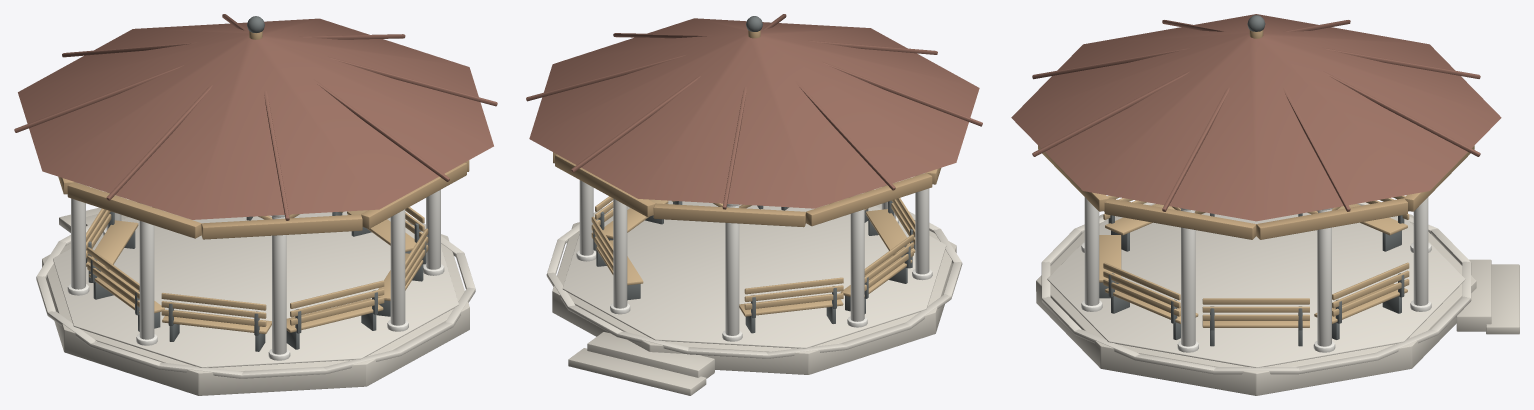
File: th16_pavillon.glb
The picture shows the model from 3 angles, left to right: view 1: azimuth 30°, elevation 25°; view 2: azimuth 150°, elevation 25°; view 3: azimuth 270°, elevation 25°; orthographic projection. The views are drawn at different scales.
Visible parts, largest first — view 1: Cone, Cylinder.001, Cylinder, Cube.023, Cube.022, Cylinder.014, Cylinder.017, Cylinder.020, Cube.024, Cylinder.011, Cylinder.023, Cube.066 (+23 smaller); view 2: Cone, Cylinder.001, Cylinder, Cube.017, Cube.016, Cube.020, Cube.021, Cylinder.008, Cylinder.011, Cylinder.005, Cube.019, Cylinder.014 (+20 smaller); view 3: Cone, Cylinder.001, Cylinder, Cube.025, Cube.018, Cube.017, Cylinder.002, Cylinder.023, Cube.016, Cylinder.005, Cylinder.020, Cube.090 (+29 smaller).
Boxes of the visible parts, box(x1,y1,x2,y2) form: Cone: box(18, 18, 493, 219); Cylinder.001: box(53, 210, 458, 367); Cylinder: box(42, 215, 469, 395); Cube.023: box(201, 214, 362, 239); Cube.022: box(67, 182, 201, 238); Cylinder.014: box(139, 203, 154, 339); Cylinder.017: box(272, 216, 286, 354); Cylinder.020: box(390, 209, 405, 325); Cube.024: box(361, 162, 466, 228); Cylinder.011: box(71, 183, 85, 289); Cylinder.023: box(426, 189, 440, 269); Cube.066: box(86, 220, 138, 269); Cone: box(529, 18, 979, 208); Cylinder.001: box(562, 200, 946, 348); Cylinder: box(552, 204, 956, 374); Cube.017: box(568, 348, 706, 395); Cube.016: box(587, 332, 714, 378); Cube.020: box(653, 203, 805, 227); Cube.021: box(806, 173, 932, 226); Cylinder.008: box(725, 205, 739, 335); Cylinder.011: box(850, 193, 864, 321); Cylinder.005: box(613, 198, 627, 308); Cube.019: box(555, 154, 654, 216); Cylinder.014: box(915, 173, 929, 274); Cone: box(1011, 14, 1501, 221); Cylinder.001: box(1047, 212, 1465, 367); Cylinder: box(1036, 214, 1476, 395); Cube.025: box(1104, 198, 1256, 239); Cube.018: box(1256, 198, 1407, 239); Cube.017: box(1486, 264, 1519, 334); Cylinder.002: box(1317, 209, 1331, 346); Cylinder.023: box(1181, 209, 1195, 346); Cube.016: box(1456, 259, 1491, 331); Cylinder.005: box(1413, 197, 1428, 305); Cylinder.020: box(1084, 197, 1099, 305); Cube.090: box(1099, 235, 1121, 282).
Bounding box in the file's own units: 8.68 × 5.61 × 9.
